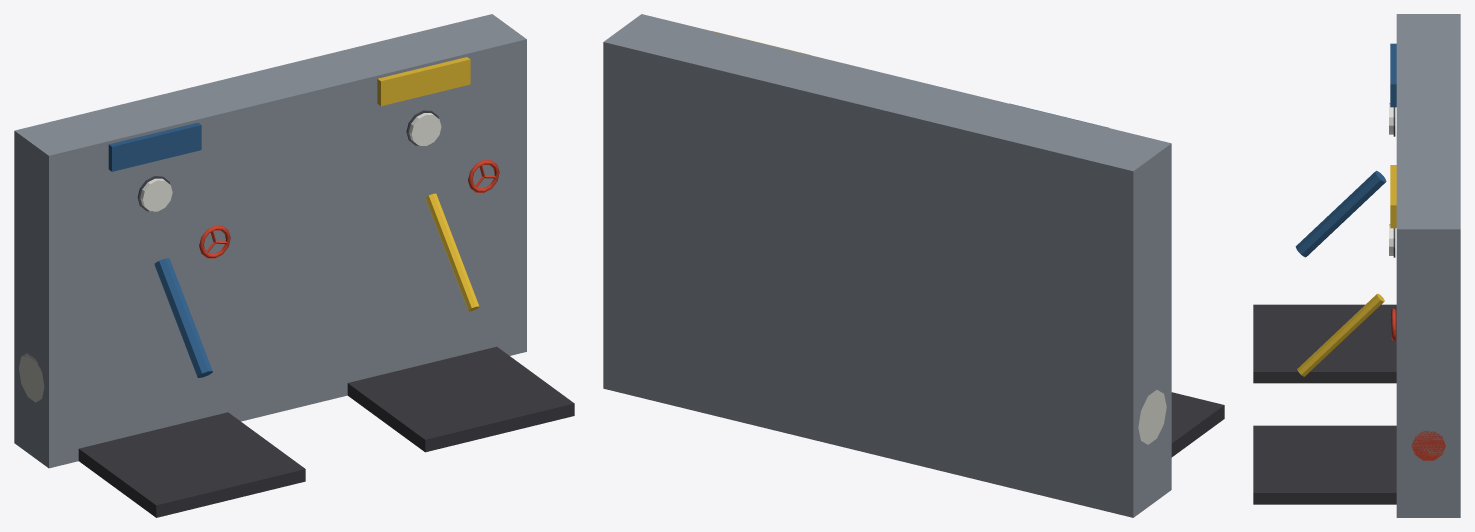
Rendered from FillingStation@ValveL.fbx.
The picture shows the model from 3 angles, left to right: view 1: azimuth 30°, elevation 25°; view 2: azimuth 150°, elevation 25°; view 3: azimuth 270°, elevation 25°; orthographic projection. The views are drawn at different scales.
Parts seen in each view (by area): view 1: FillingStation_Body; view 2: FillingStation_Body; view 3: FillingStation_Body.
Part boxes in pixels (x1,y1,x2,y2): FillingStation_Body: (14, 14, 574, 517); FillingStation_Body: (603, 14, 1224, 517); FillingStation_Body: (1253, 14, 1460, 517).
Bounding box in the file's own units: 1.6 × 1 × 0.65.
